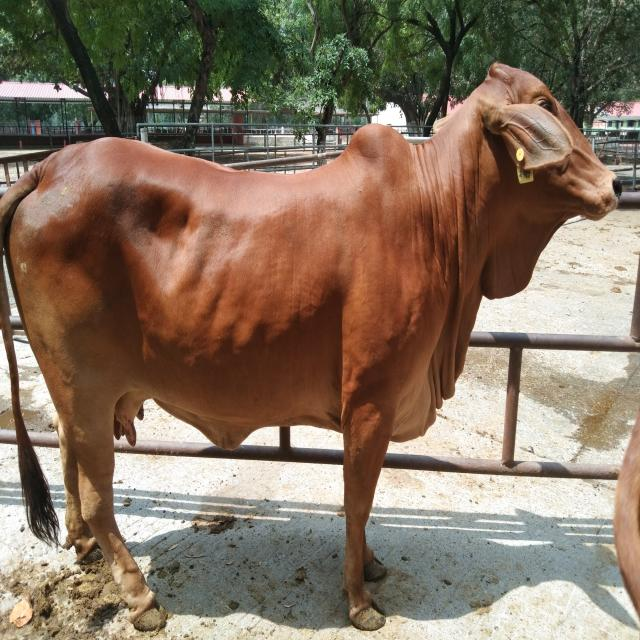1: (338, 120, 415, 157)
Hoof: (129, 591, 167, 632), (348, 603, 386, 631), (363, 557, 387, 582)
